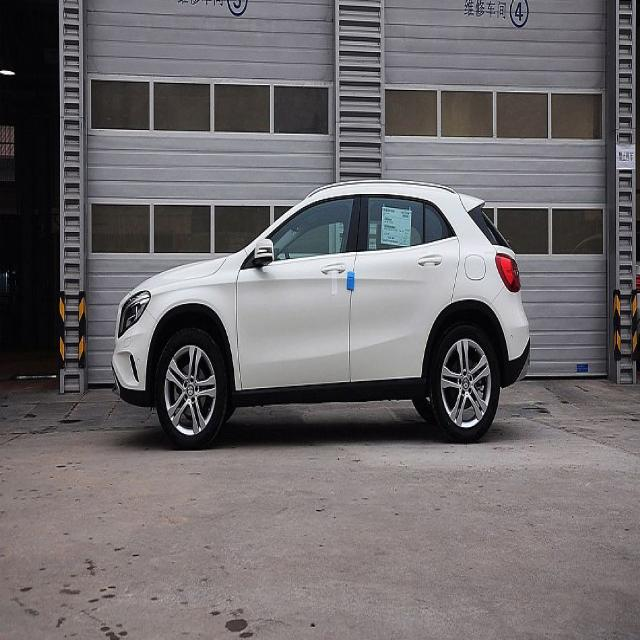back_left_side_light: (494, 250, 521, 294)
door: (350, 189, 462, 382)
front_bumper: (112, 309, 158, 409)
front_left_side_door: (234, 188, 362, 393)
front_left_side_light: (116, 288, 151, 343)
front_left_side_mirror: (250, 236, 276, 268)
rear_bumper: (490, 282, 531, 388)
wheel: (428, 324, 501, 440), (157, 327, 227, 447)
